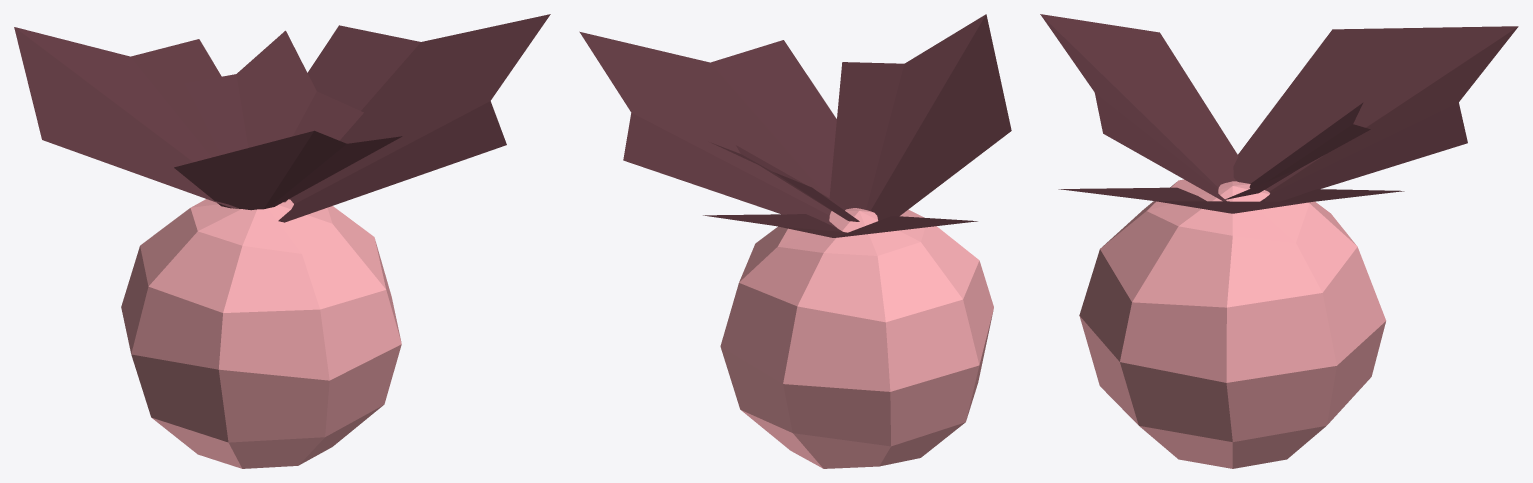
Rendered from scifi-plant-leaf-medium.fbx.
The picture shows the model from 3 angles, left to right: view 1: azimuth 30°, elevation 25°; view 2: azimuth 150°, elevation 25°; view 3: azimuth 270°, elevation 25°; orthographic projection. The views are drawn at different scales.
Parts seen in each view (by area): view 1: scifi-plant-leaf-medium; view 2: scifi-plant-leaf-medium; view 3: scifi-plant-leaf-medium.
Part boxes in pixels (left/top/right/bottom): scifi-plant-leaf-medium: left=14, top=14, right=550, bottom=468; scifi-plant-leaf-medium: left=579, top=14, right=1011, bottom=468; scifi-plant-leaf-medium: left=1040, top=14, right=1518, bottom=468.
Size of the model in its own units: 0.6518 by 0.5447 by 0.5612.
